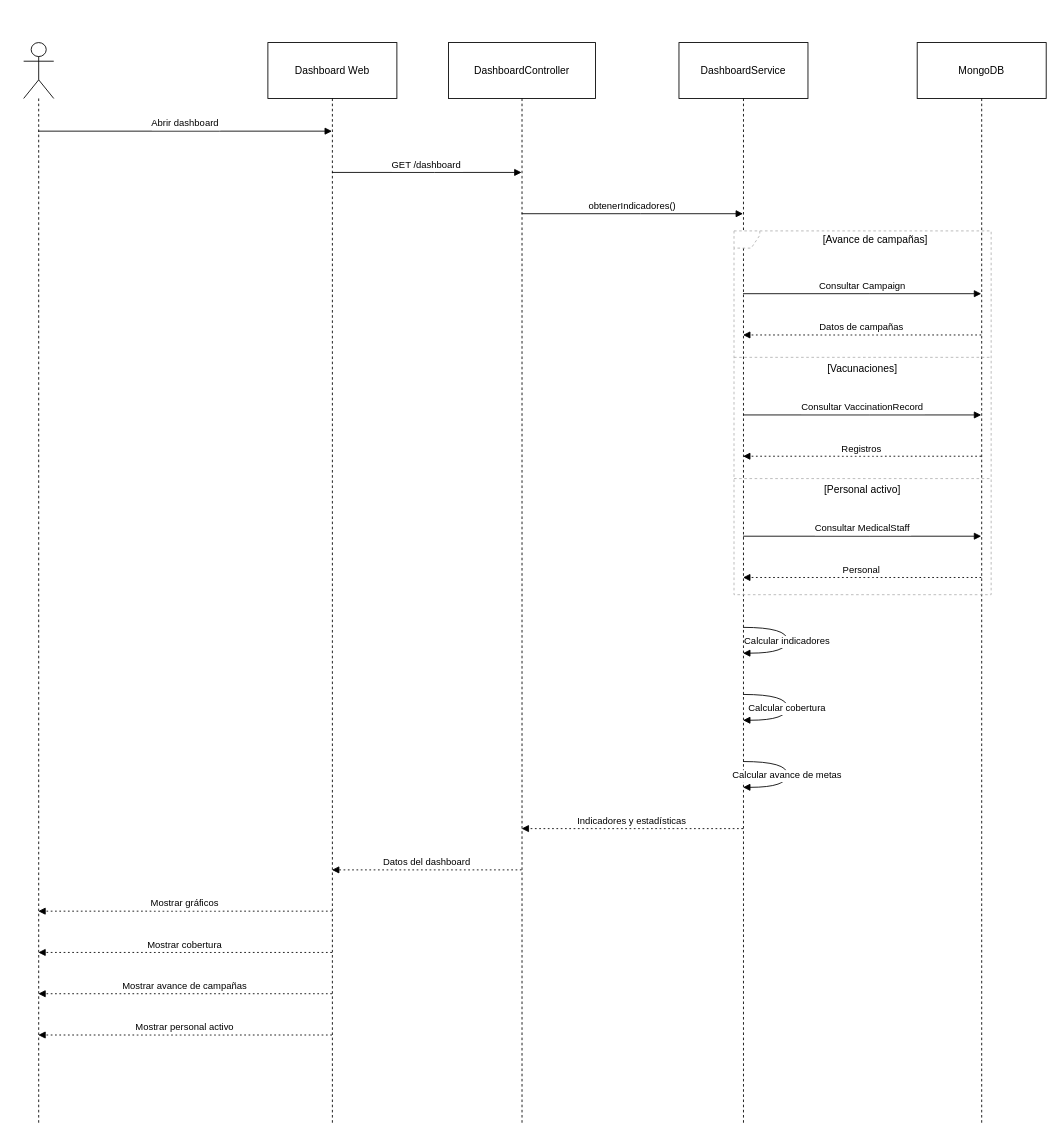
This 1061x1140 diagram has some shape labels left out. The box of each missing label's shape, as (x1, y1, x2, y2) in pixels:
par: (733, 230, 991, 595)
Usuario autorizado: (23, 42, 54, 1125)
